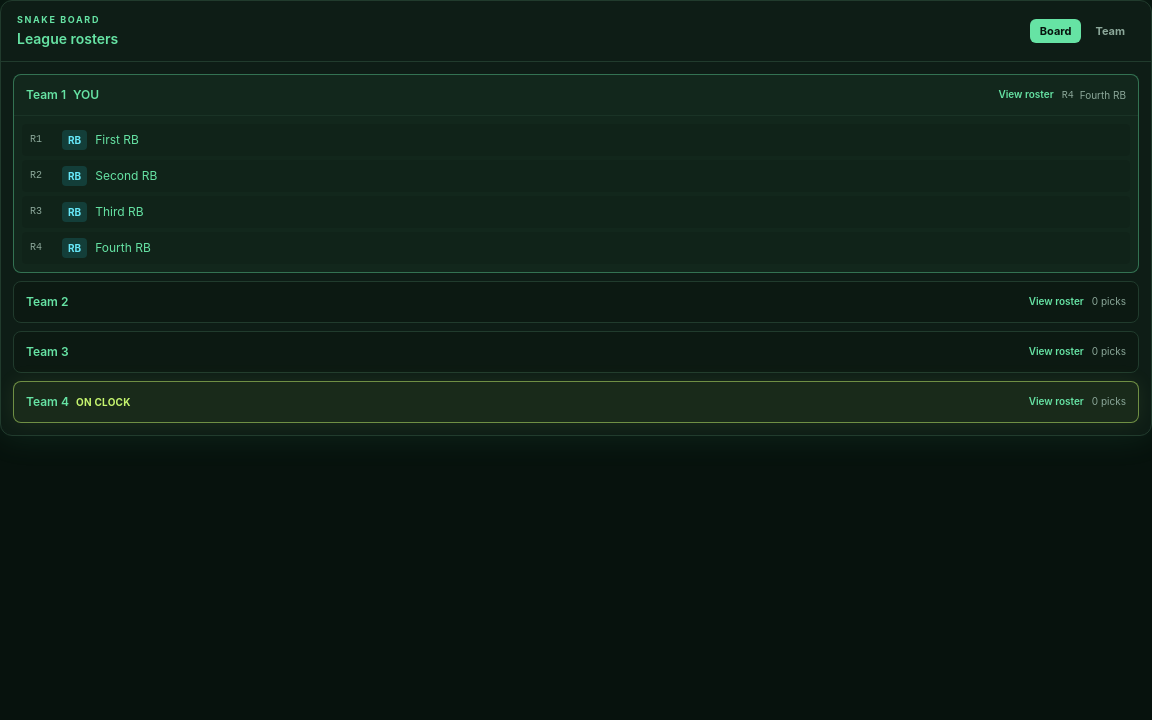
Scenario: snake board rosters › puts extra position players into flex then bench
Click the tab with test id "roster-view-team": (1110, 31) [1085,18,1135,43]
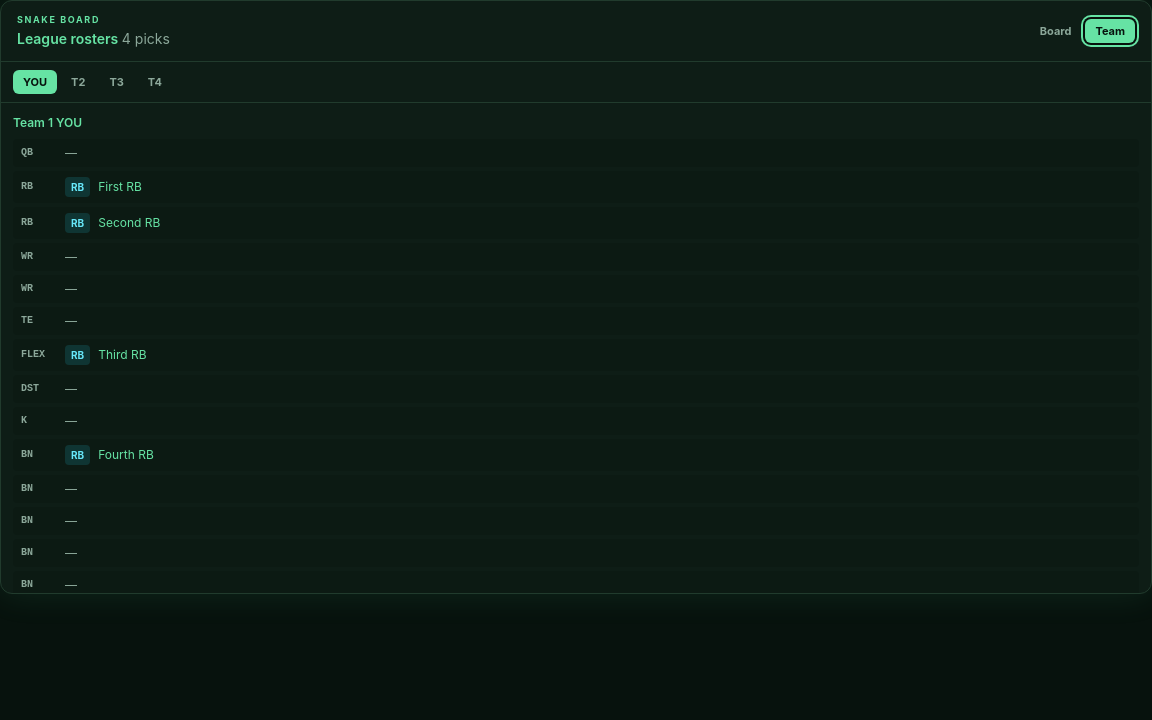
Now the element with test id "roster-slot-RB-0" shows "First RB", box [98,179,142,194]
Now the element with test id "roster-slot-RB-1" shows "Second RB", box [98,215,160,230]
Now the element with test id "roster-slot-FLEX-0" shows "Third RB", box [98,347,147,362]
